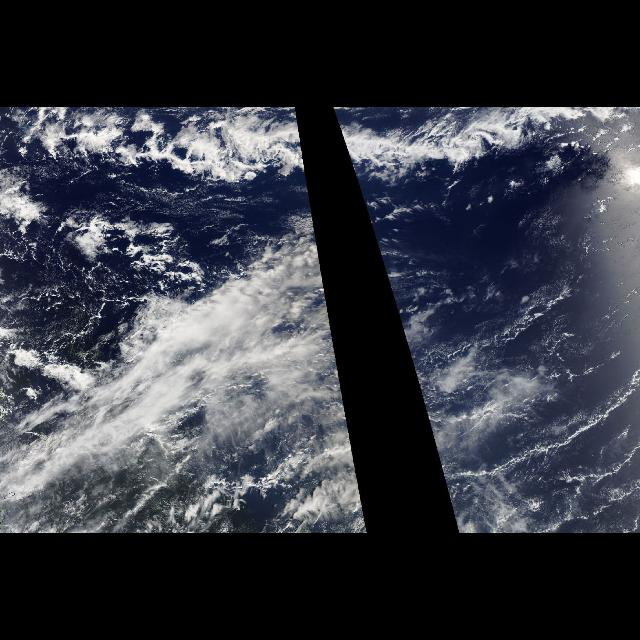Gravel: (2, 215, 208, 373)
Sugar: (494, 213, 636, 527)
